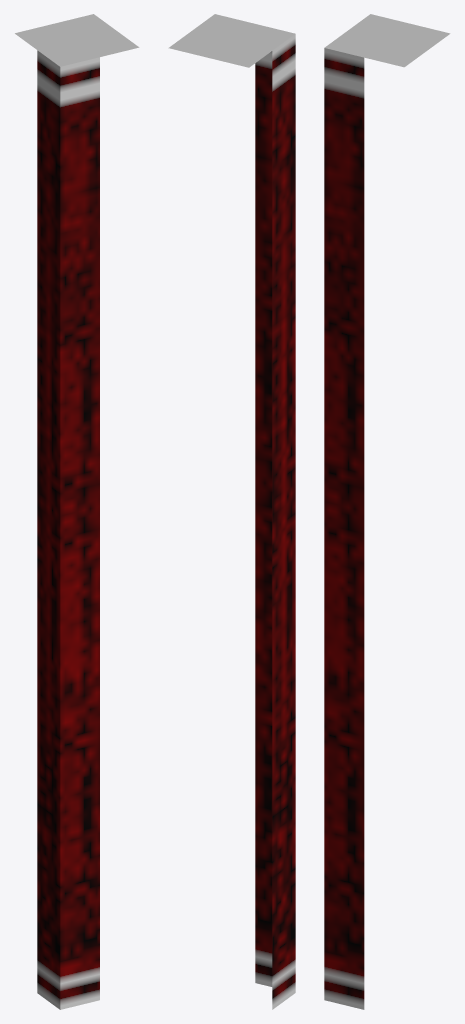
Rendered from W_I__Eckverschluß [Rot]_2056.glb.
3 views of the same model, side by side, from view 1: azimuth 30°, elevation 25°; view 2: azimuth 150°, elevation 25°; view 3: azimuth 330°, elevation 25° (orthographic).
Parts seen in each view (by area): view 1: pPlaneShape7, pPlaneShape11; view 2: pPlaneShape7, pPlaneShape11; view 3: pPlaneShape7, pPlaneShape11.
Part boxes in pixels (x1=…): pPlaneShape7: x1=37, y1=50, x2=99, y2=1009; pPlaneShape11: x1=15, y1=14, x2=139, y2=66; pPlaneShape7: x1=255, y1=34, x2=295, y2=1009; pPlaneShape11: x1=168, y1=14, x2=295, y2=67; pPlaneShape7: x1=324, y1=48, x2=364, y2=1009; pPlaneShape11: x1=324, y1=14, x2=450, y2=67.
Size of the model in its own units: 0.0307 by 0.3486 by 0.0307.
2 materials, 1 textured.
